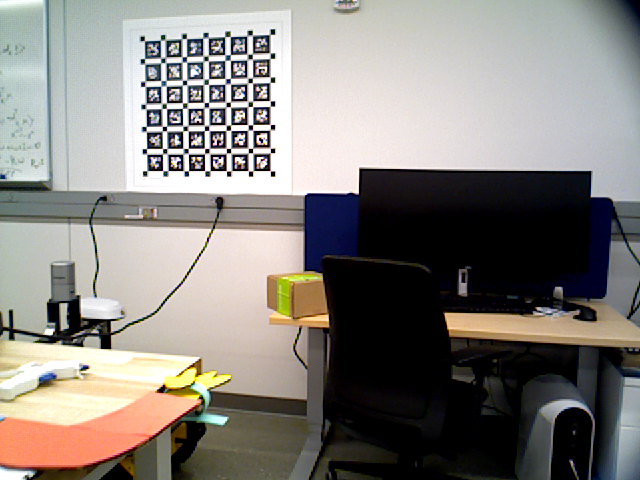painting4: (126, 10, 290, 193)
